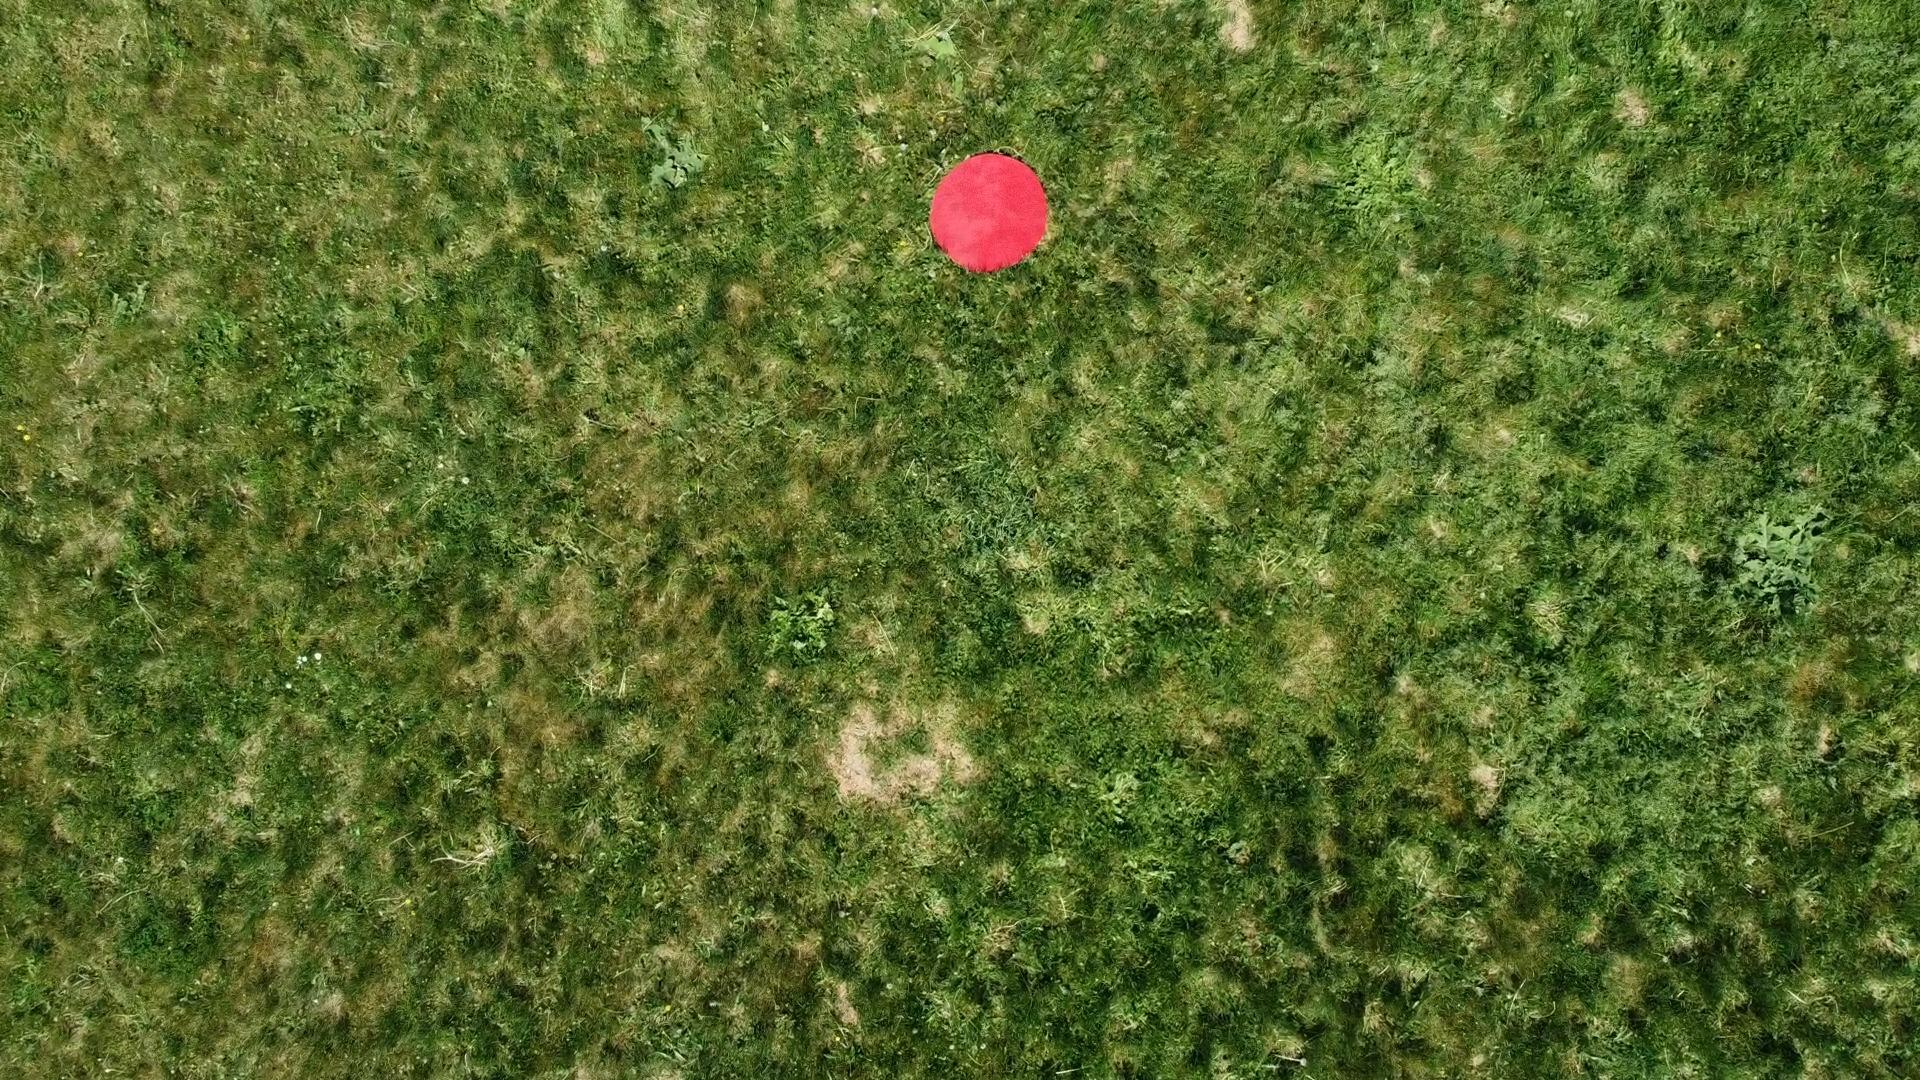Red: (926, 149, 1058, 274)
